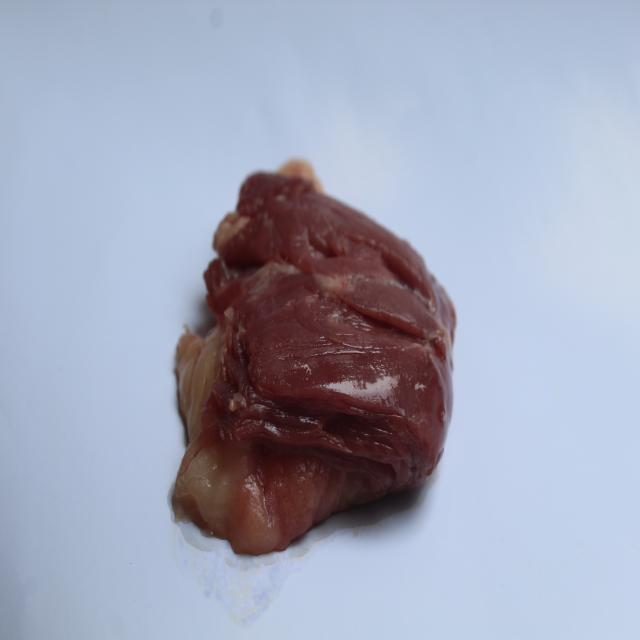beef: (132, 121, 503, 605)
